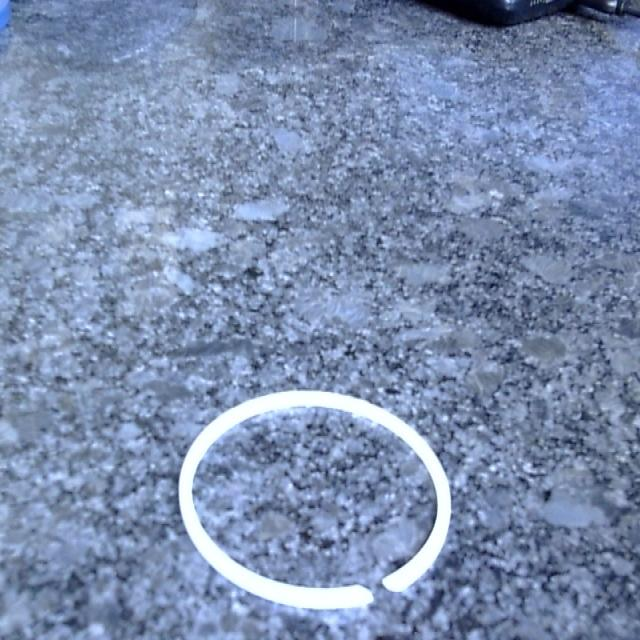white-ring: (179, 390, 451, 608)
